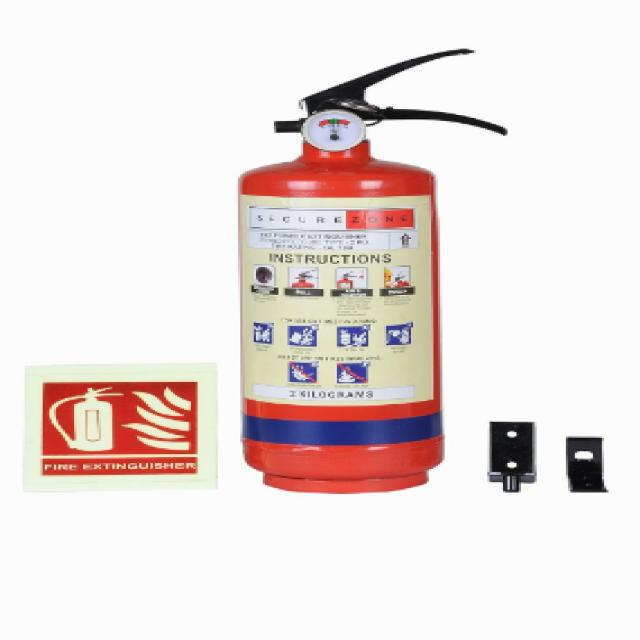fire extinguisher: (216, 44, 466, 500)
fire signage: (30, 362, 216, 495)
